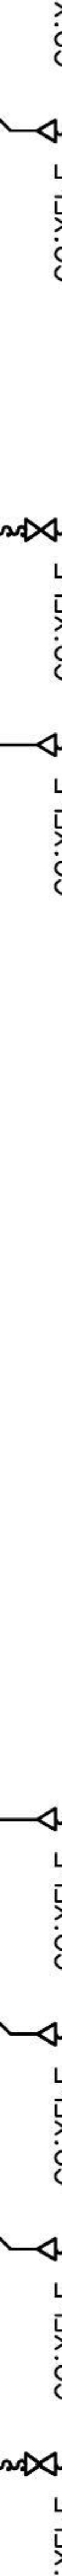terminator_single: (34, 729, 59, 757), (36, 117, 59, 145), (36, 1805, 59, 1833), (36, 2021, 59, 2049), (36, 2236, 59, 2264)
terminator_splicing_kits: (24, 2451, 59, 2477), (23, 517, 57, 544)
